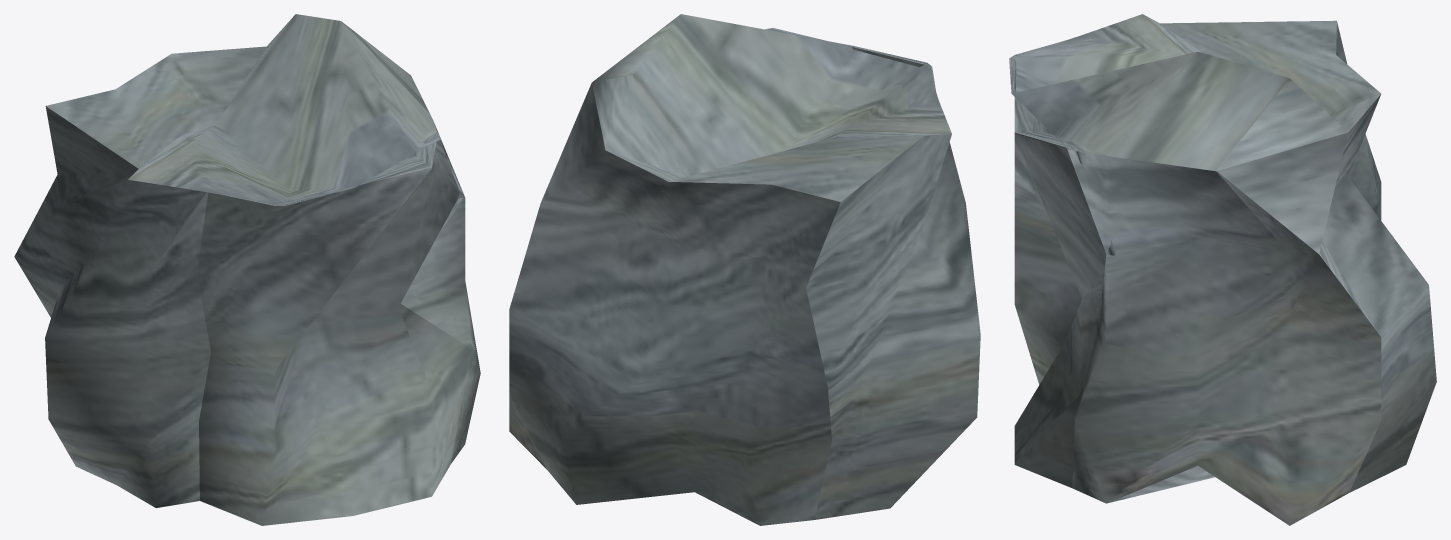
File: rock_w.fbx
The picture shows the model from 3 angles, left to right: view 1: azimuth 30°, elevation 25°; view 2: azimuth 150°, elevation 25°; view 3: azimuth 270°, elevation 25°; orthographic projection.
Parts seen in each view (by area): view 1: pCube1; view 2: pCube1; view 3: pCube1.
Part boxes in pixels (x1,y1,x2,y2): pCube1: [14, 14, 480, 525]; pCube1: [509, 14, 980, 525]; pCube1: [1009, 14, 1436, 525].
Size of the model in its own units: 1.33 by 1.24 by 1.17.
1 material, 1 textured.
